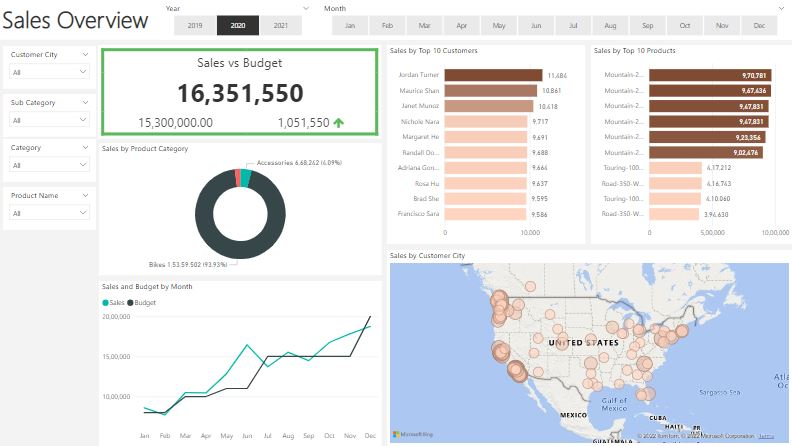

The dashboard page shown, as its layout file describes it:
{"tool":"powerbi","page":{"name":"Sales Overview","canvas":[1280,720],"ordinal":0},"visuals":[{"type":"textbox","box":[0,0,1280,64],"z":0},{"type":"slicer","fields":{"Values":["DIM_Calendar.Year"]},"box":[256,0,256,64],"z":1000},{"type":"slicer","fields":{"Values":["DIM_Calendar.MonthShort"]},"box":[512,0,768,64],"z":2000},{"type":"slicer","fields":{"Values":["DIM_Customers.Customer City"]},"box":[5.9,73.5,150,69.1],"z":3000},{"type":"slicer","fields":{"Values":["DIM_Products.Product Category"]},"box":[5.9,225,150,69.1],"z":4000},{"type":"slicer","fields":{"Values":["DIM_Products.Product Name"]},"box":[5.9,301.5,150,69.1],"z":5000},{"type":"slicer","fields":{"Values":["DIM_Products.Sub Category"]},"box":[5.9,151.5,150,69.1],"z":6000},{"type":"barChart","title":"Sales by Top 10 Products","fields":{"Category":["DIM_Products.Product Name"],"Y":["Analysis Metrics.Sales"]},"box":[955.2,73,324.8,321.1],"z":7000},{"type":"lineChart","fields":{"Category":["DIM_Calendar.MonthShort"],"Y":["Analysis Metrics.Sales","Analysis Metrics.Budget"]},"box":[160.7,452.8,456.3,267.2],"z":8000},{"type":"barChart","title":"Sales by Top 10 Customers","fields":{"Category":["DIM_Customers.Full Name"],"Y":["Analysis Metrics.Sales"]},"box":[625.9,73,320.2,321.1],"z":9000},{"type":"donutChart","fields":{"Y":["Analysis Metrics.Sales"],"Series":["DIM_Products.Product Category"]},"box":[160.6,229.9,456.2,213.5],"z":10000},{"type":"map","fields":{"Category":["DIM_Customers.Customer City"],"Size":["Analysis Metrics.Sales"]},"box":[625.9,403.3,654.1,316.6],"z":12000},{"type":"BBED0A4D4D8D44CE93CF2DAFADEE466C","fields":{"actual":["Analysis Metrics.Sales"],"target2":["Analysis Metrics.Sales / Budget"],"target1":["Analysis Metrics.Budget"]},"box":[160.5,73.4,456.6,151.3],"z":13001}]}

Visuals, with their boxes in screenshot pixels (x1, y1, x2, y2), scaled from the page's 1280x720 canvas onto the 792x446 screenshot:
textbox: pyautogui.locateOnScreen(0, 0, 791, 40)
slicer - DIM_Calendar.Year: pyautogui.locateOnScreen(158, 0, 317, 40)
slicer - DIM_Calendar.MonthShort: pyautogui.locateOnScreen(317, 0, 791, 40)
slicer - DIM_Customers.Customer City: pyautogui.locateOnScreen(4, 46, 96, 88)
slicer - DIM_Products.Product Category: pyautogui.locateOnScreen(4, 139, 96, 182)
slicer - DIM_Products.Product Name: pyautogui.locateOnScreen(4, 187, 96, 230)
slicer - DIM_Products.Sub Category: pyautogui.locateOnScreen(4, 94, 96, 137)
"Sales by Top 10 Products" barChart: pyautogui.locateOnScreen(591, 45, 791, 244)
lineChart - DIM_Calendar.MonthShort x Analysis Metrics.Sales: pyautogui.locateOnScreen(99, 280, 382, 445)
"Sales by Top 10 Customers" barChart: pyautogui.locateOnScreen(387, 45, 585, 244)
donutChart - Analysis Metrics.Sales x DIM_Products.Product Category: pyautogui.locateOnScreen(99, 142, 382, 275)
map - DIM_Customers.Customer City x Analysis Metrics.Sales: pyautogui.locateOnScreen(387, 250, 791, 445)
BBED0A4D4D8D44CE93CF2DAFADEE466C - Analysis Metrics.Sales x Analysis Metrics.Sales / Budget: pyautogui.locateOnScreen(99, 45, 382, 139)
